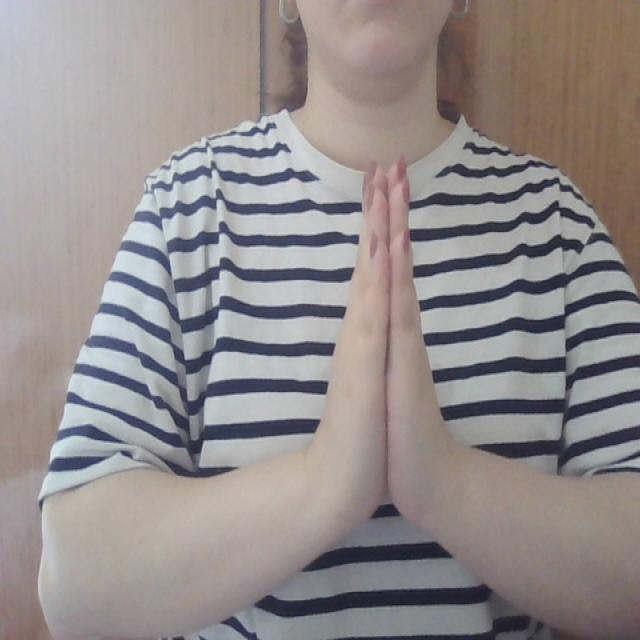Ozur-Dilemek: (308, 149, 474, 572)
